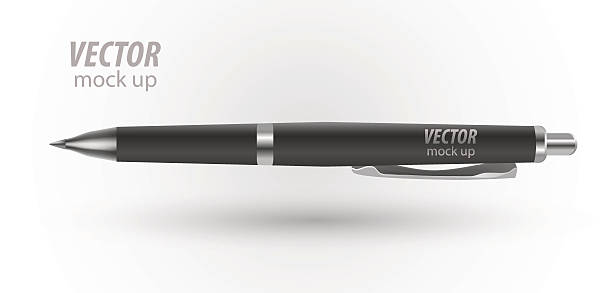pen: (48, 111, 593, 191)
